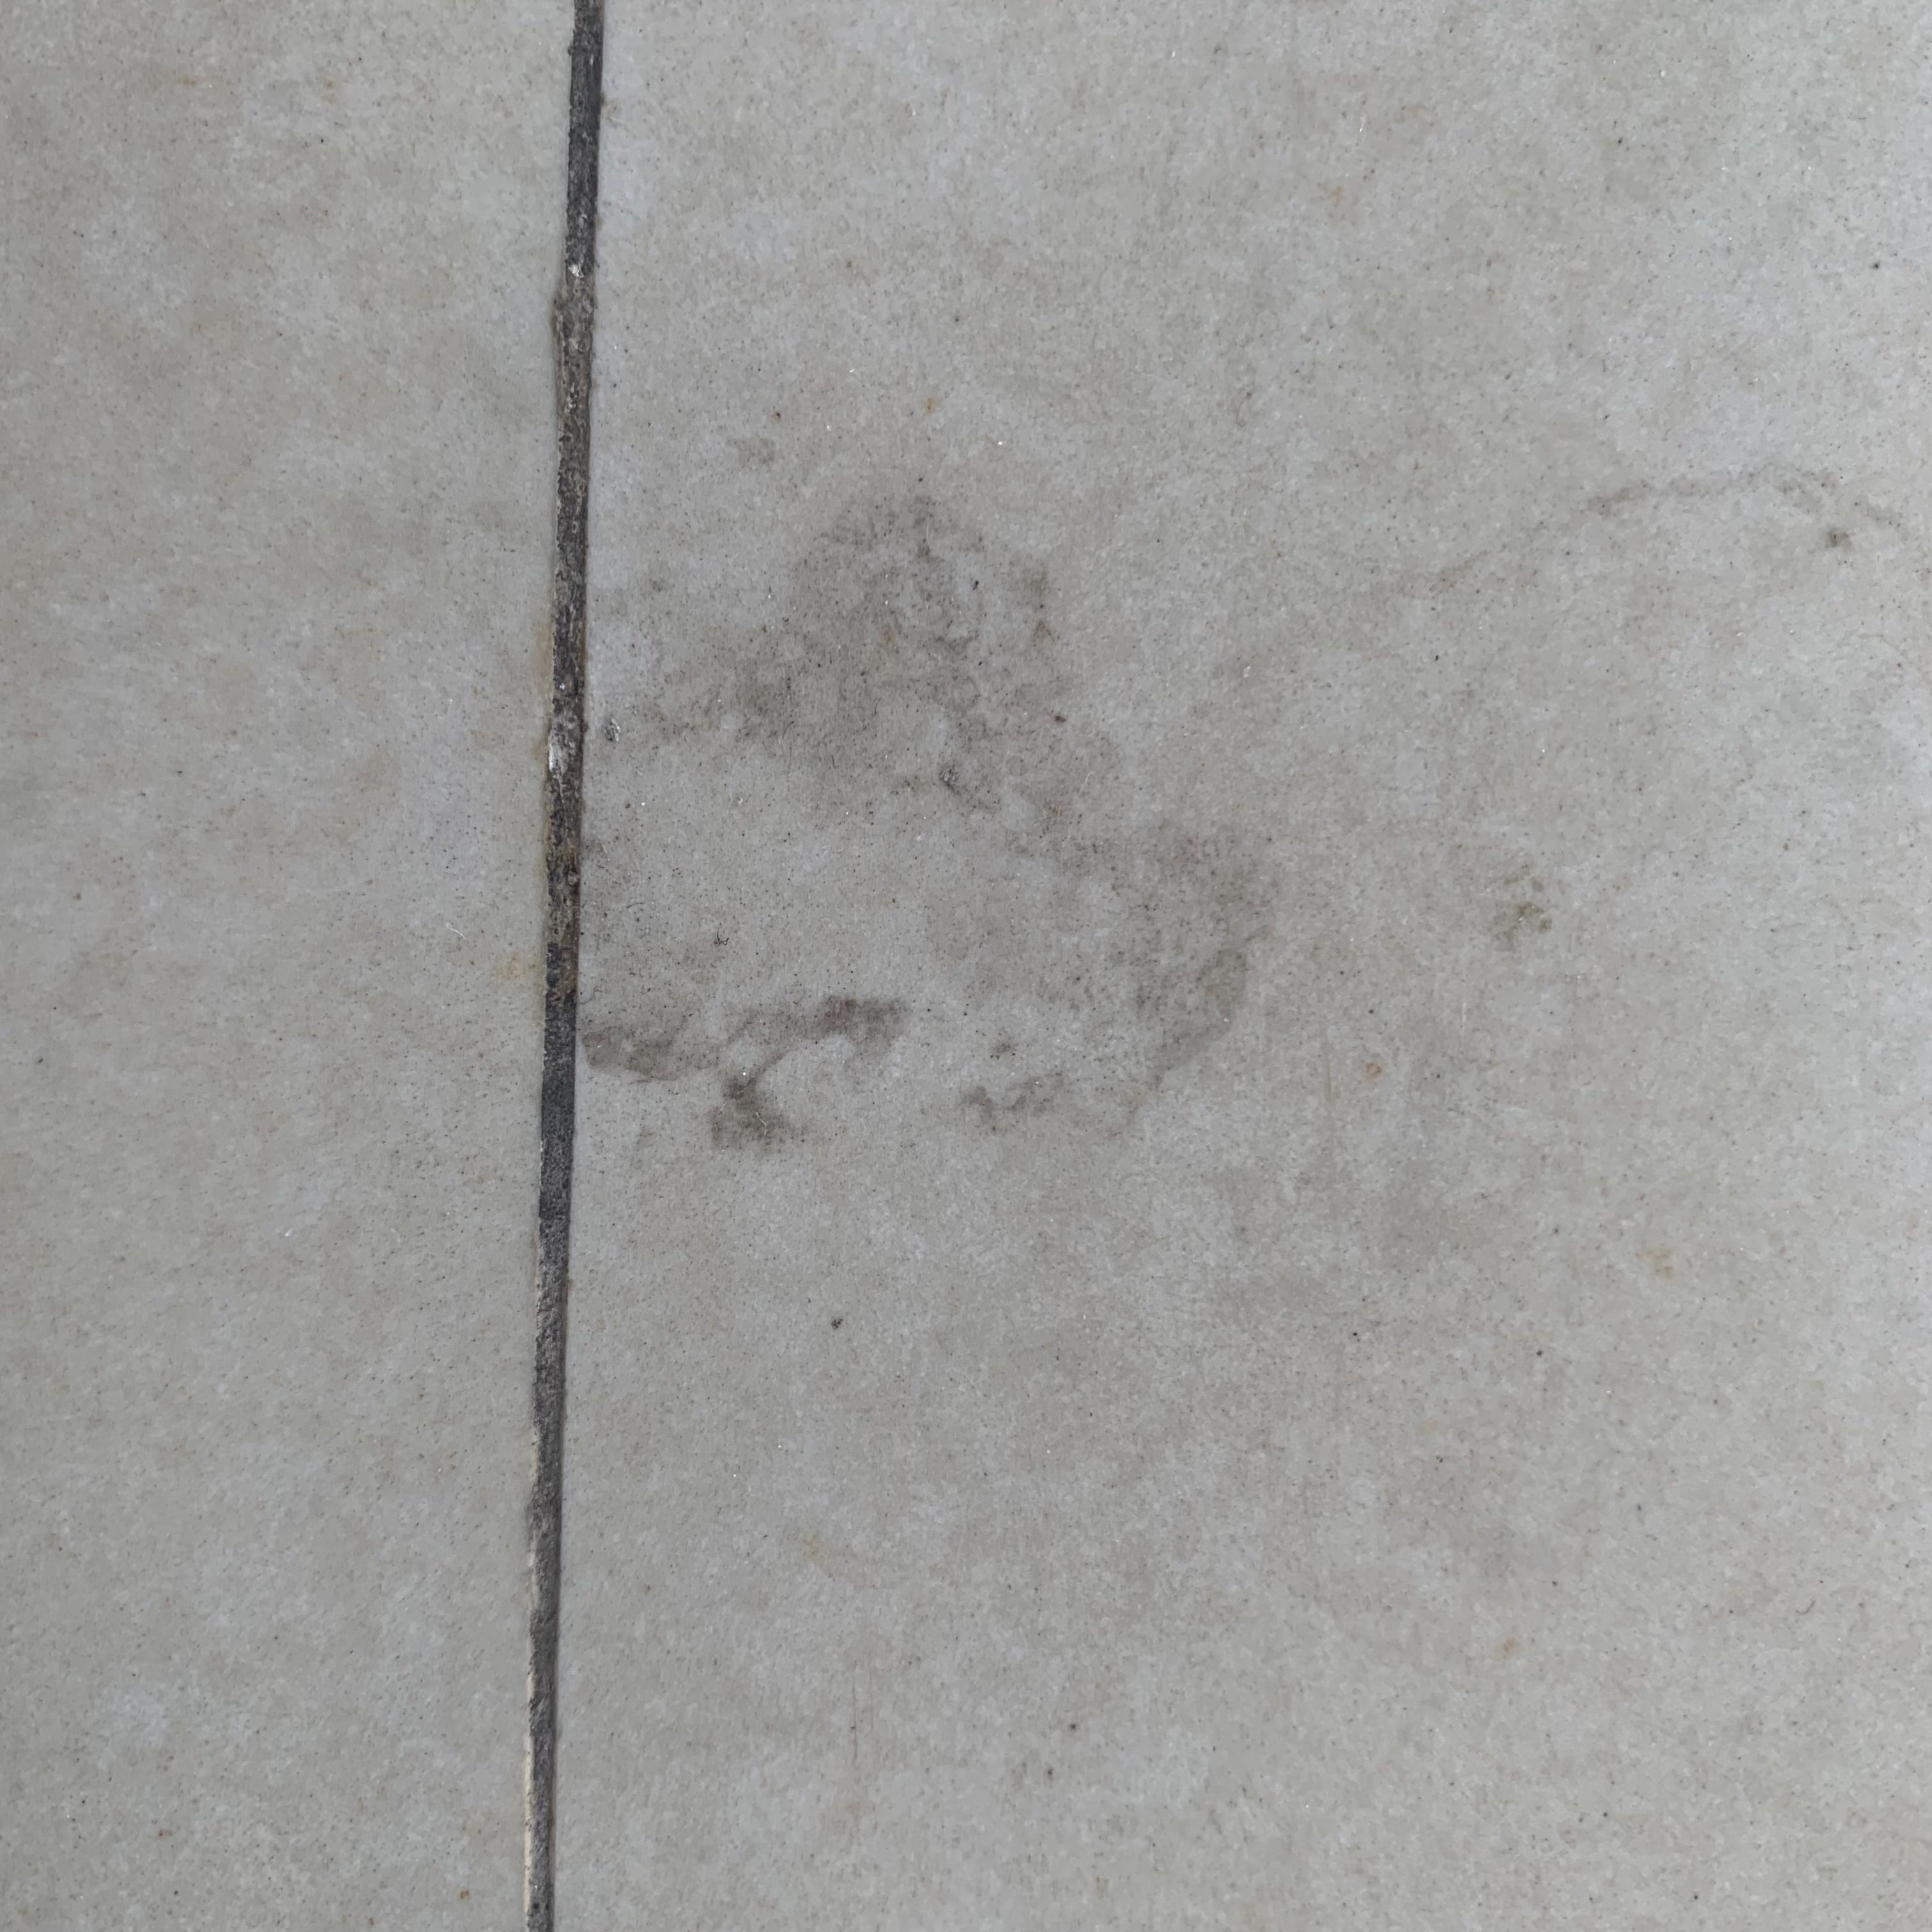grey spot: (575, 502, 1277, 1161)
